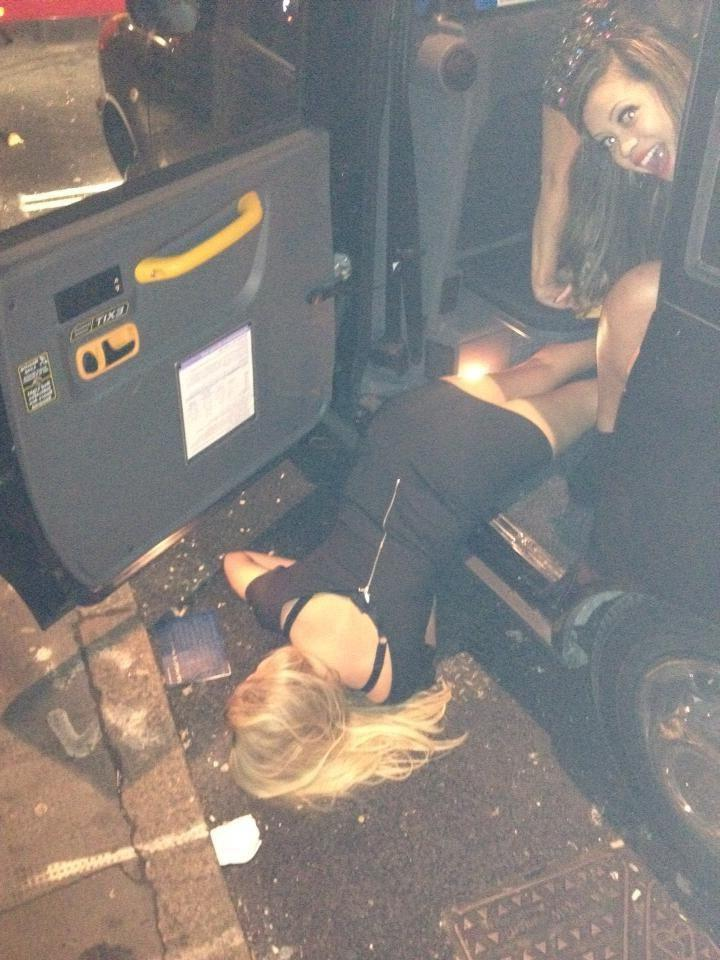Drunk: (587, 78, 673, 179)
